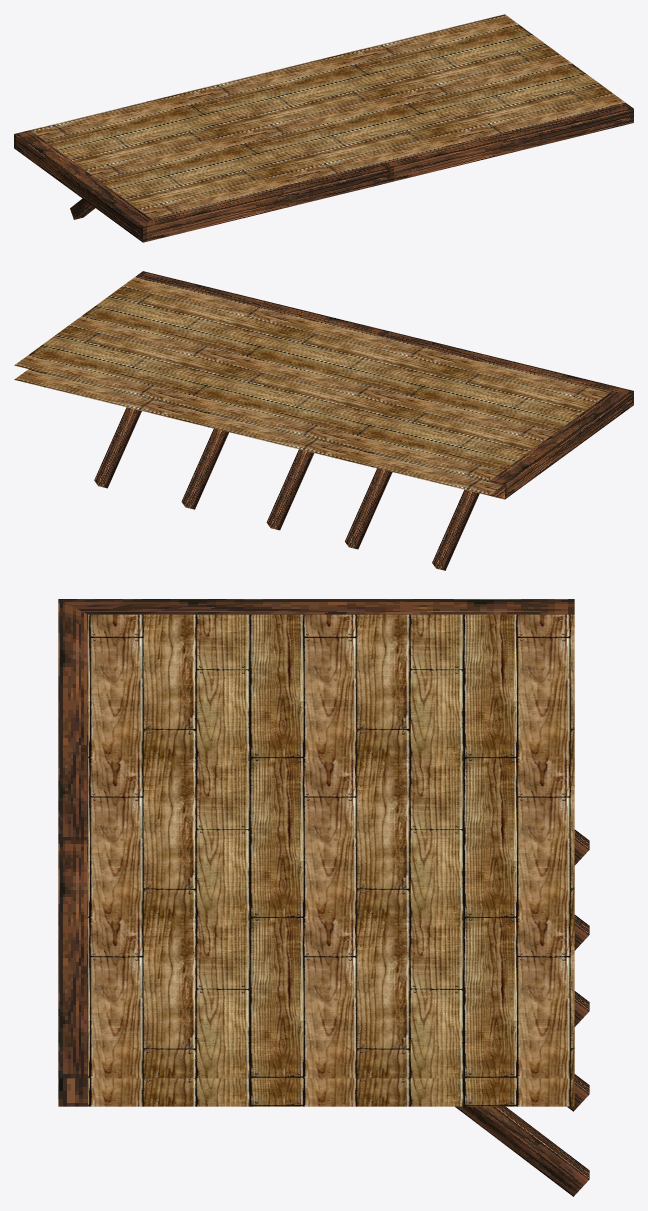
The model's file is LAKETOWN_WAREHOUSE3_PS_WH3_PLATFORM38387__GX.obj.
3 views of the same model, one above another, from view 1: azimuth 30°, elevation 25°; view 2: azimuth 150°, elevation 25°; view 3: azimuth 270°, elevation 25° (orthographic). The views are drawn at different scales.
Parts seen in each view (by area): view 1: atform38387__GX; view 2: atform38387__GX; view 3: atform38387__GX.
Part boxes in pixels (<box>): atform38387__GX: <box>14,14,633,242</box>; atform38387__GX: <box>14,271,633,570</box>; atform38387__GX: <box>58,599,589,1196</box>.
Size of the model in its own units: 900 by 176 by 422.
